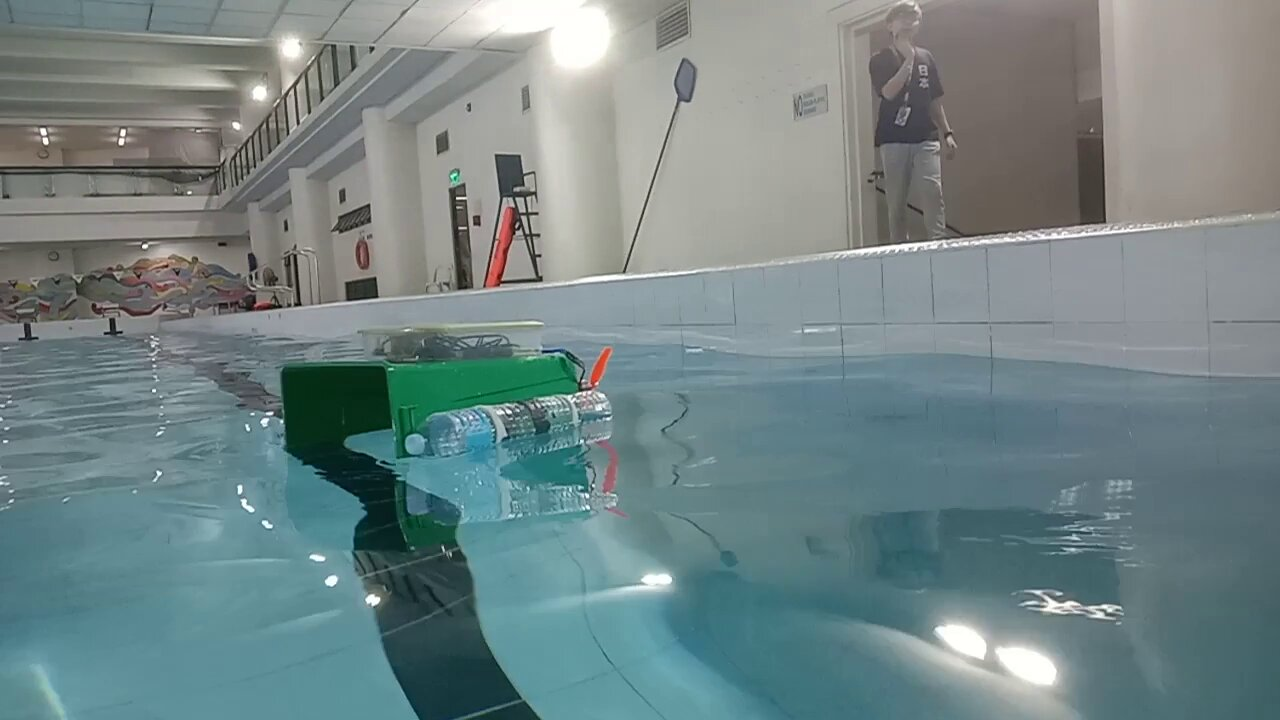drone: (280, 320, 614, 460)
